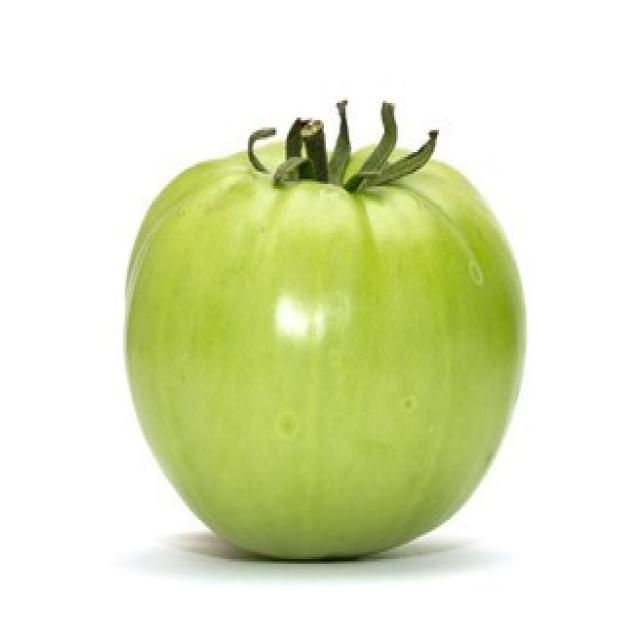yesil: (125, 136, 538, 564)
